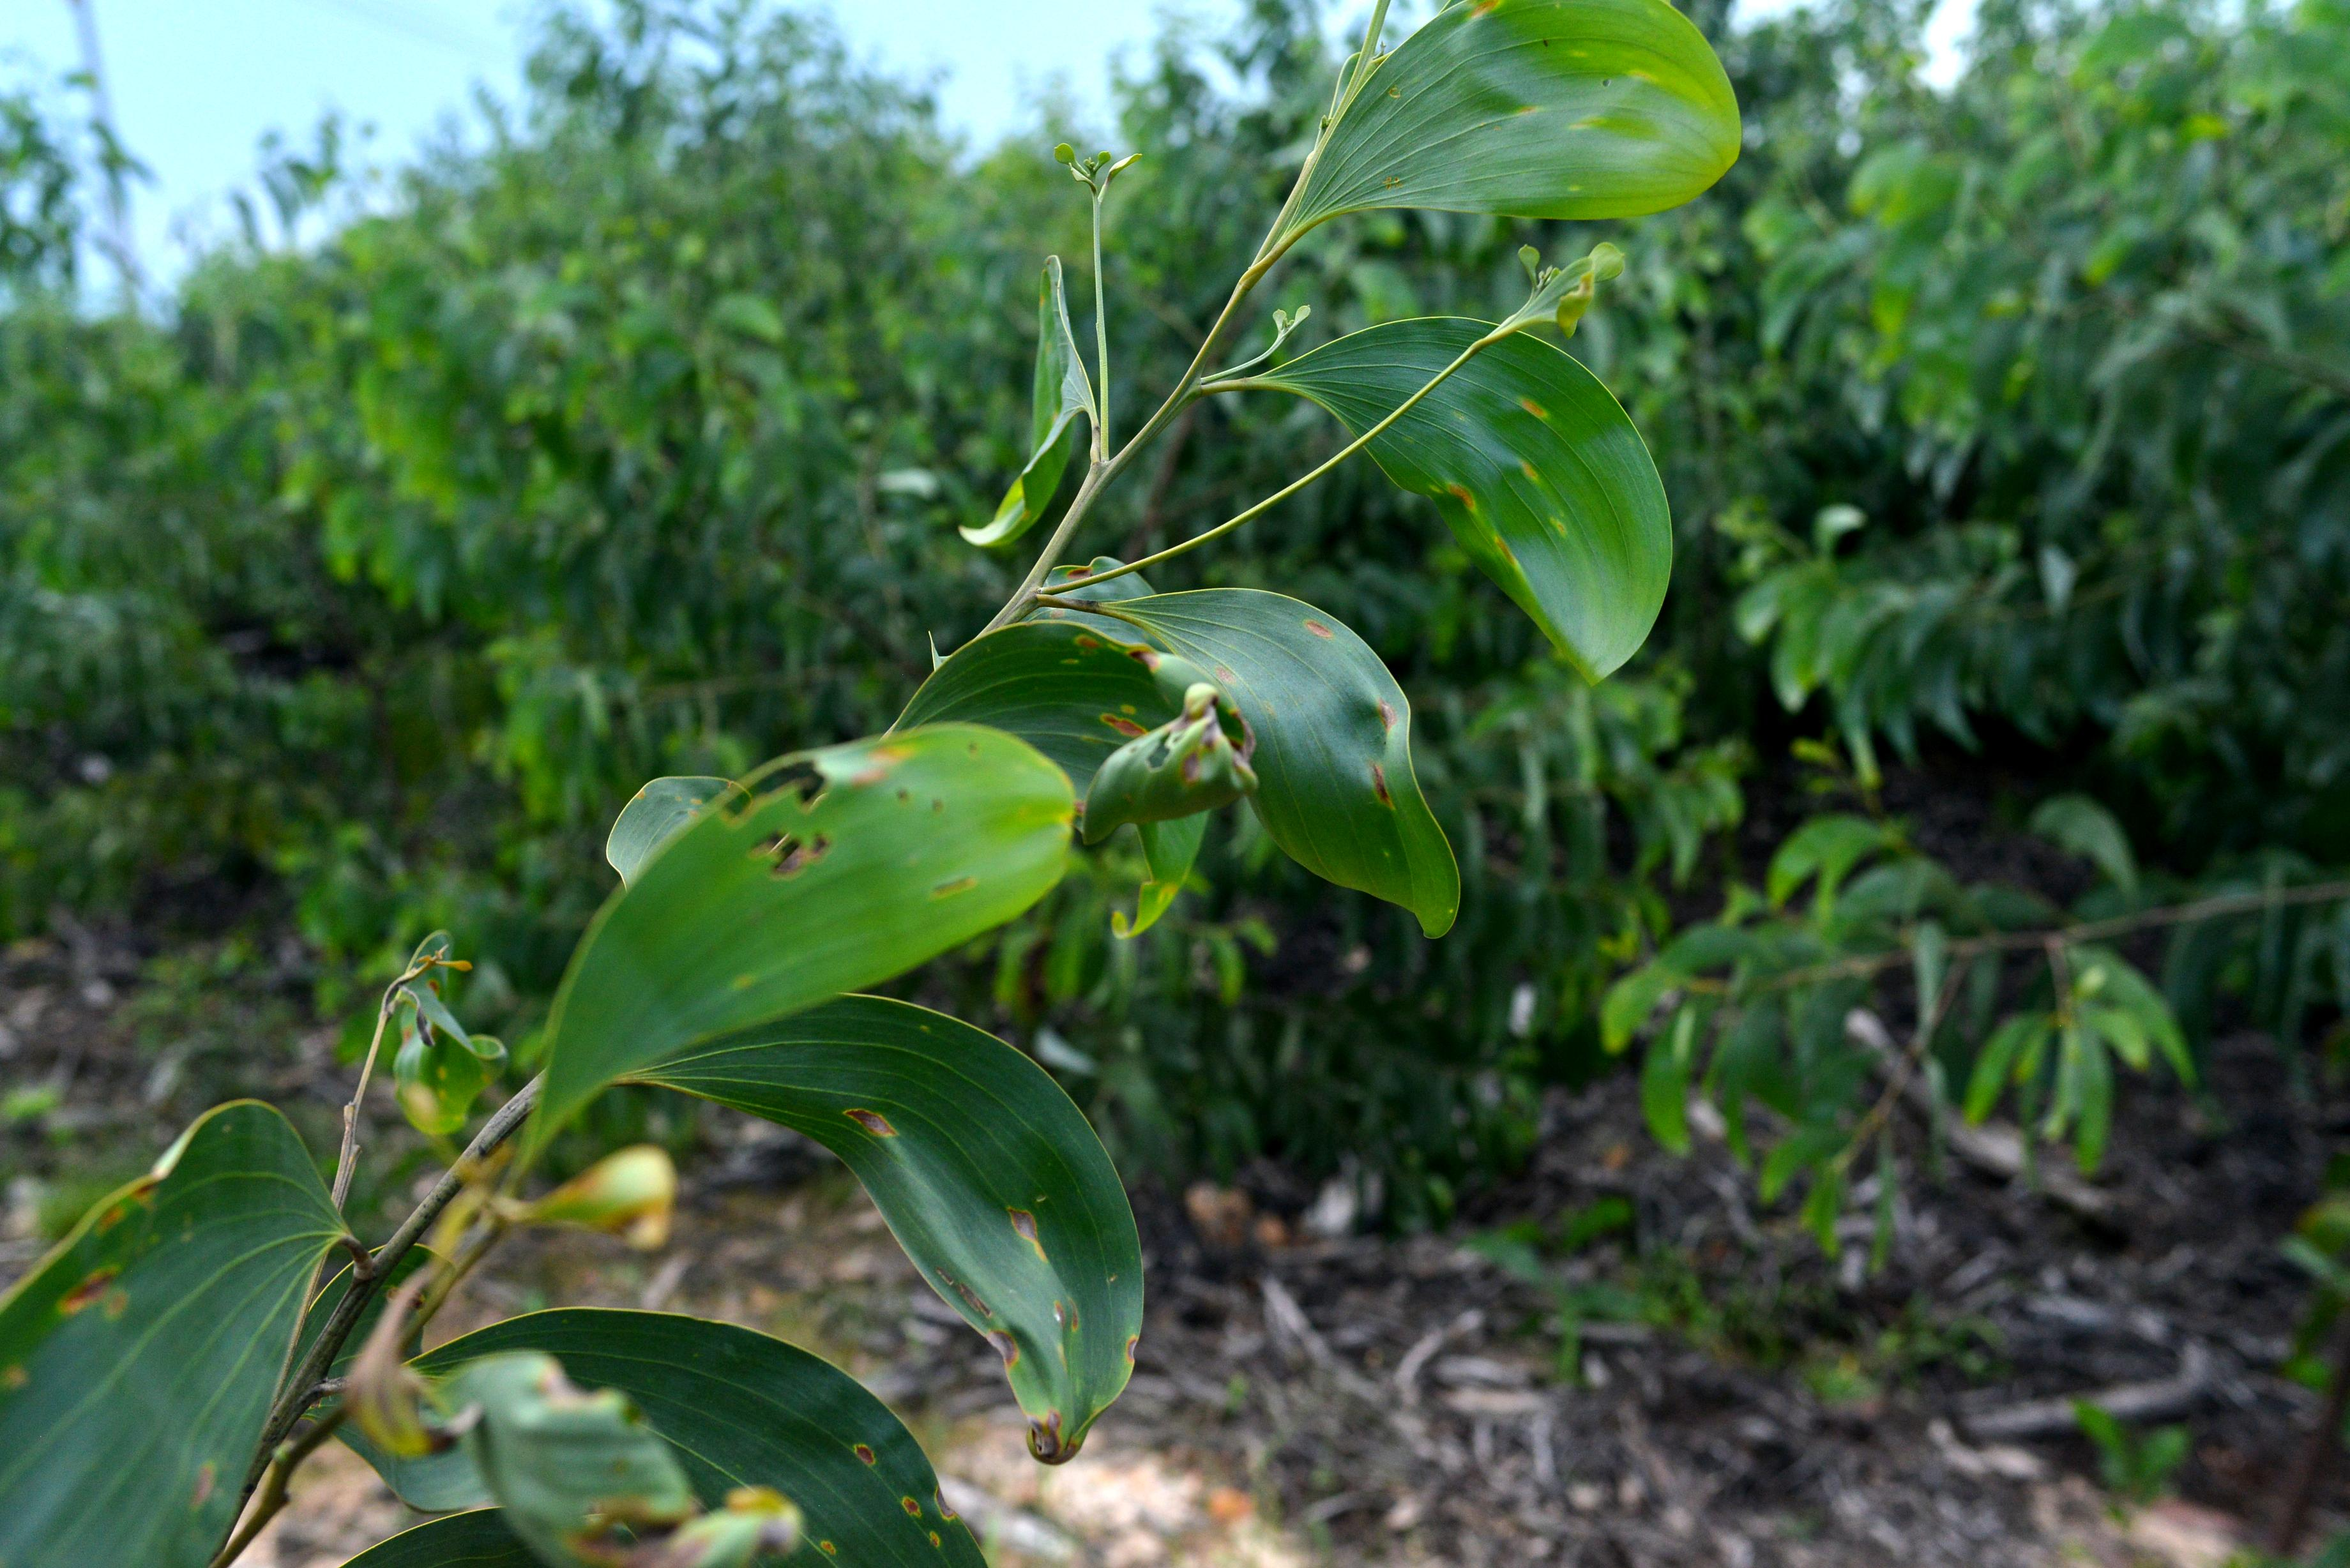Pasalora: (626, 1004, 1157, 1468), (1256, 311, 1690, 684), (0, 1101, 345, 1568), (1080, 595, 1479, 941), (870, 623, 1207, 931), (346, 1353, 817, 1559), (1011, 661, 1262, 845), (952, 250, 1101, 556), (1440, 198, 1668, 350), (367, 926, 506, 1148), (336, 1267, 455, 1475), (502, 1139, 672, 1262)
